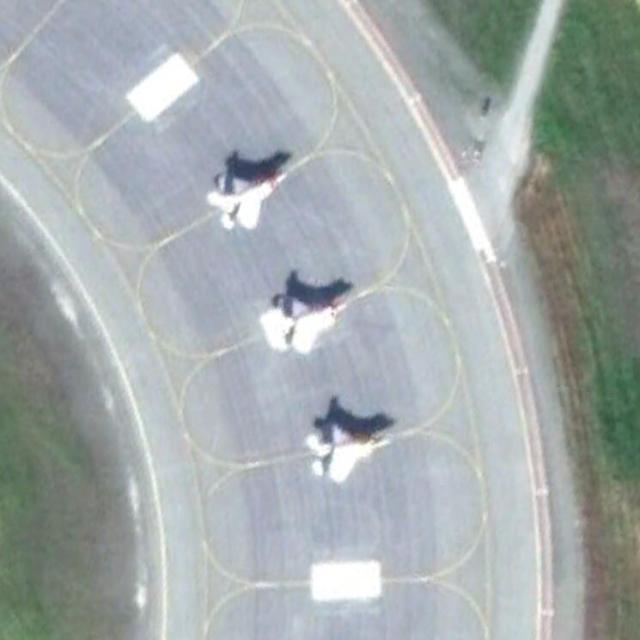fighter jet: (252, 285, 344, 355), (304, 412, 392, 484), (203, 165, 294, 228)
